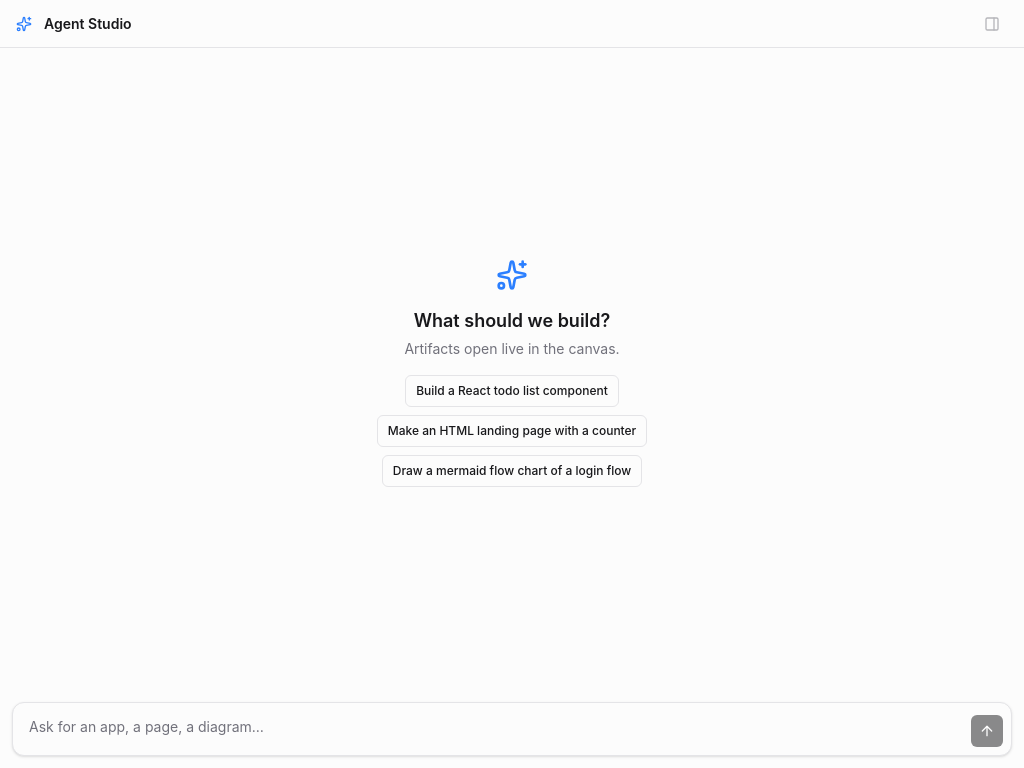
it: Studio — end to end › surfaces an upstream rejection as an RFC 9457 alert with Retry
Type "hello" into the text box named "Message" at (492, 729), box [21,711,963,747]
Then press Enter
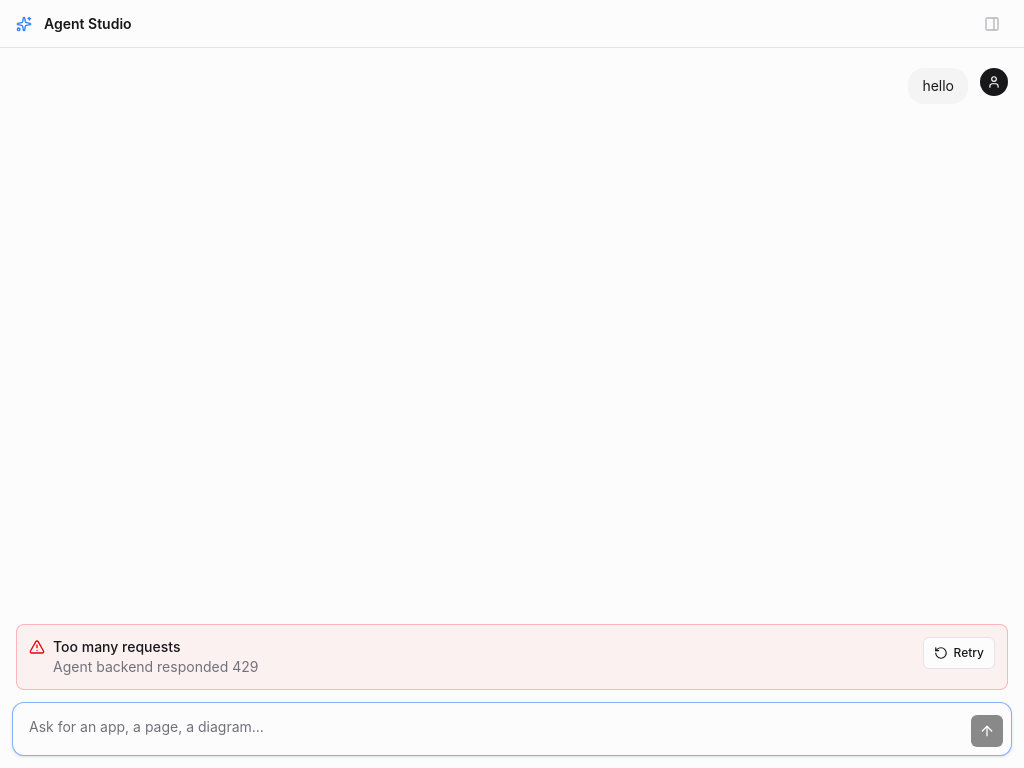
Result: the message shows "Too many requests" at [53,638,180,655]
Click the button "Retry" at (959, 653), box [922,637,995,669]
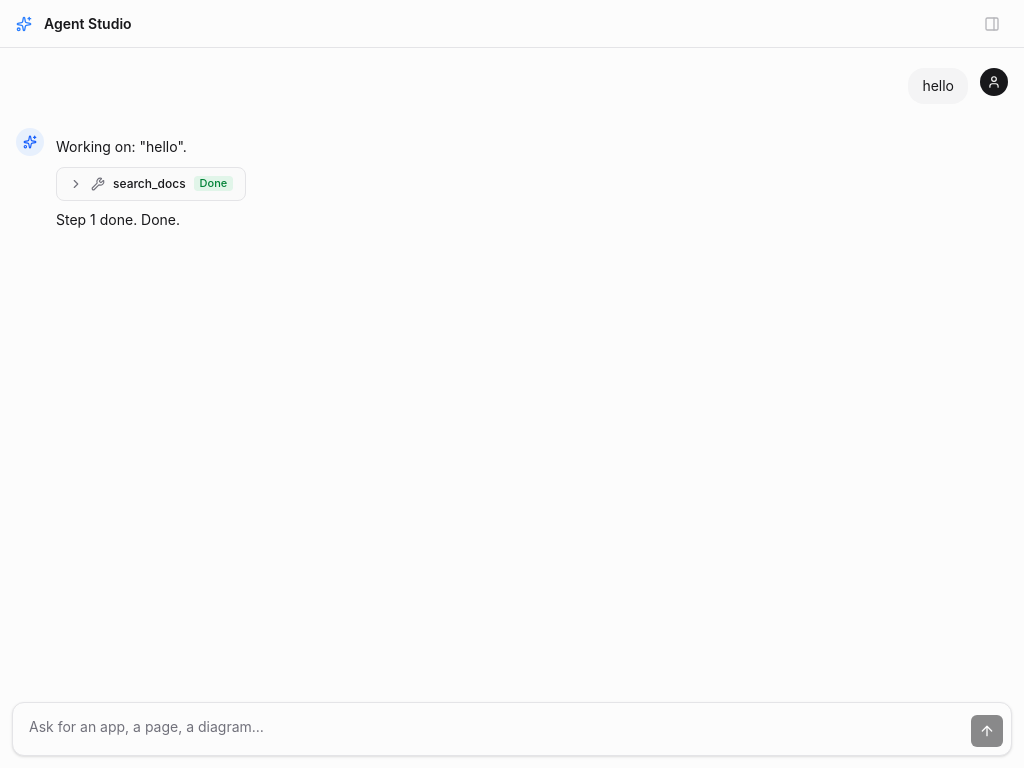
Result: the element named "Assistant" shows "done." at [56,211,180,228]
Result: the message "Too many requests Agent backend responded 429 Retry" is gone
